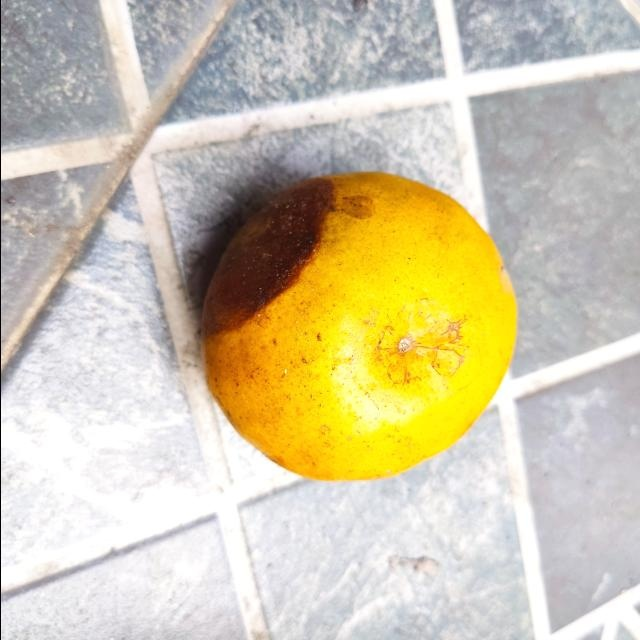agrume: (196, 168, 520, 488)
